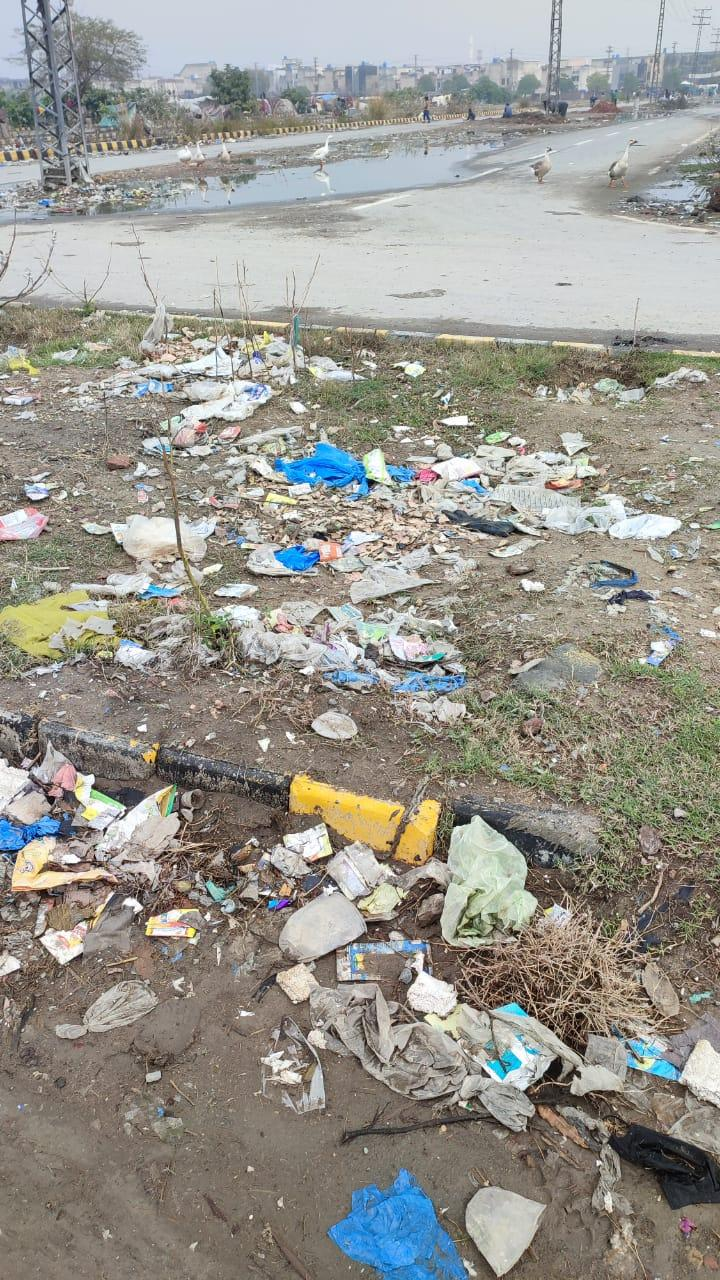garbage: (8, 728, 720, 1173), (98, 308, 587, 739)
